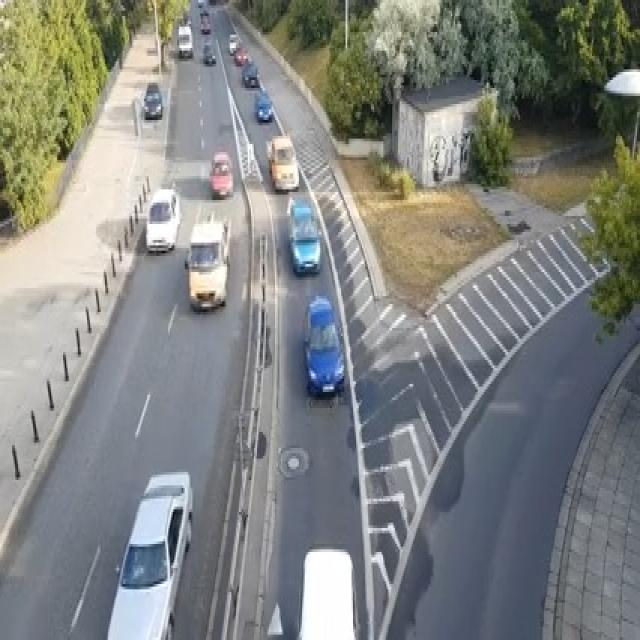car: (105, 470, 192, 638), (184, 211, 232, 309), (302, 293, 344, 395), (285, 194, 320, 274), (144, 187, 180, 253), (266, 133, 299, 192), (209, 150, 233, 198), (143, 80, 162, 117), (254, 90, 273, 122), (178, 24, 192, 56), (242, 61, 258, 85), (233, 45, 251, 64), (201, 43, 215, 64), (228, 32, 240, 53), (200, 13, 210, 32), (197, 0, 204, 8)
